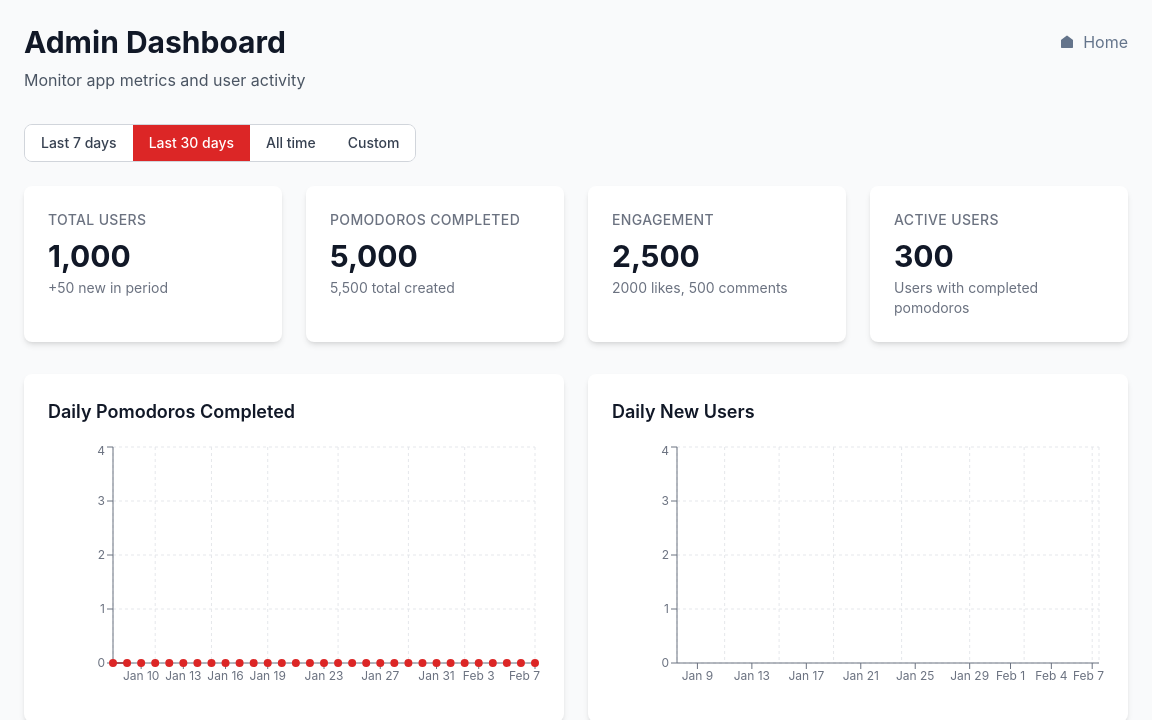
Test: AdminDashboard CSS behavior › time range selection › renders custom date inputs with correct classes
Step 1. Click the button "Custom" → coordinates (374, 143), box [332, 125, 416, 161]
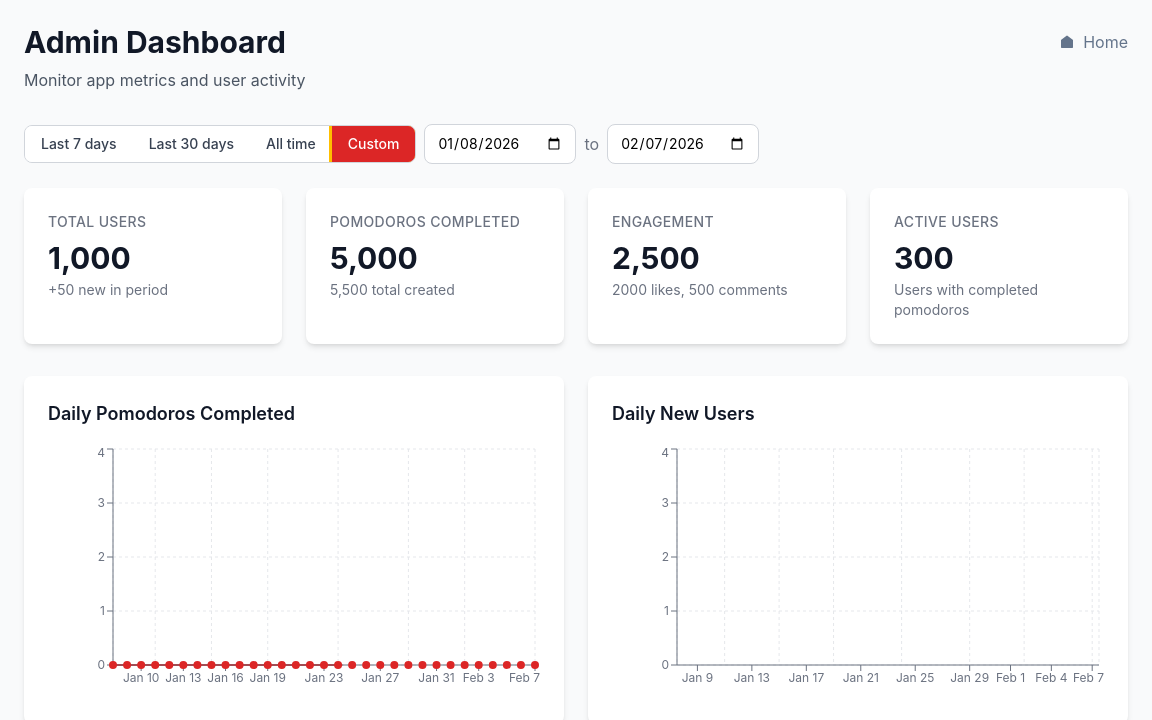
Now the date field with class "cq-admin-custom-start-date" is shown, box [424, 124, 576, 164]
Now the date field with class "cq-admin-custom-end-date" is shown, box [607, 124, 759, 164]
